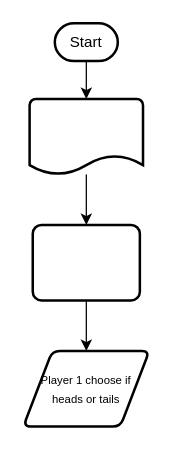
Some shapes in this 171 by 449 pixel diagram are drawn without their labels. Each missing label, with the centre of its shape:
Shuffle the deck of cards and divide it into two: (x=85, y=262)
Welcome the players and explain the rules of the game: (x=86, y=136)
